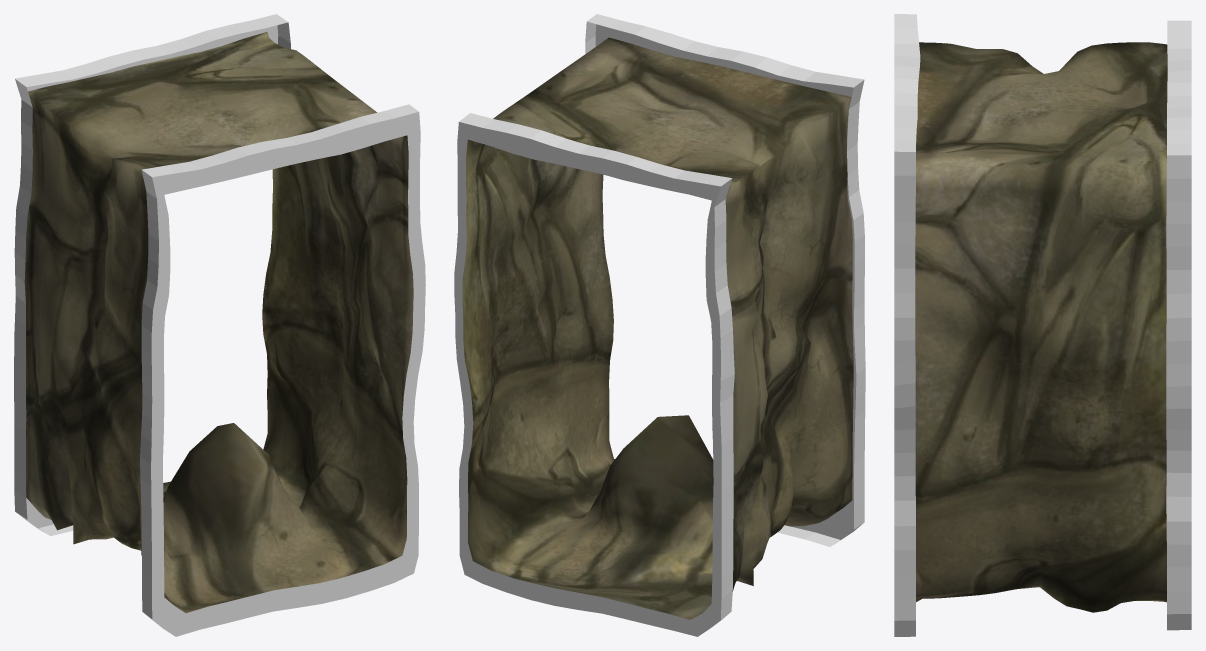
Rendered from cave module 10.fbx.
3 views of the same model, side by side, from view 1: azimuth 30°, elevation 25°; view 2: azimuth 150°, elevation 25°; view 3: azimuth 270°, elevation 25° (orthographic). The views are drawn at different scales.
Parts seen in each view (by area): view 1: Plane.10; view 2: Plane.10; view 3: Plane.10.
Boxes of the visible parts, <box> form: Plane.10: <box>14,14,425,636</box>; Plane.10: <box>454,14,865,636</box>; Plane.10: <box>894,14,1191,636</box>.
Bounding box in the file's own units: 690 × 1105 × 600.
